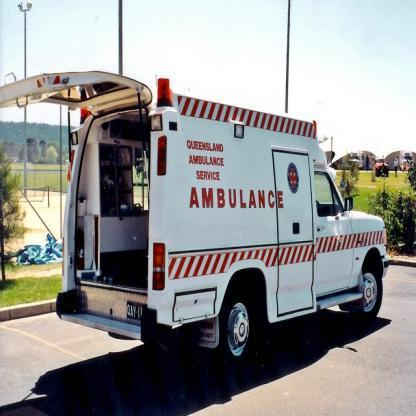ambulance_off: (0, 73, 385, 360)
